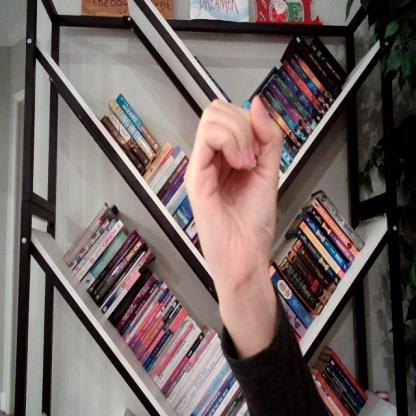zero: (188, 97, 284, 270)
